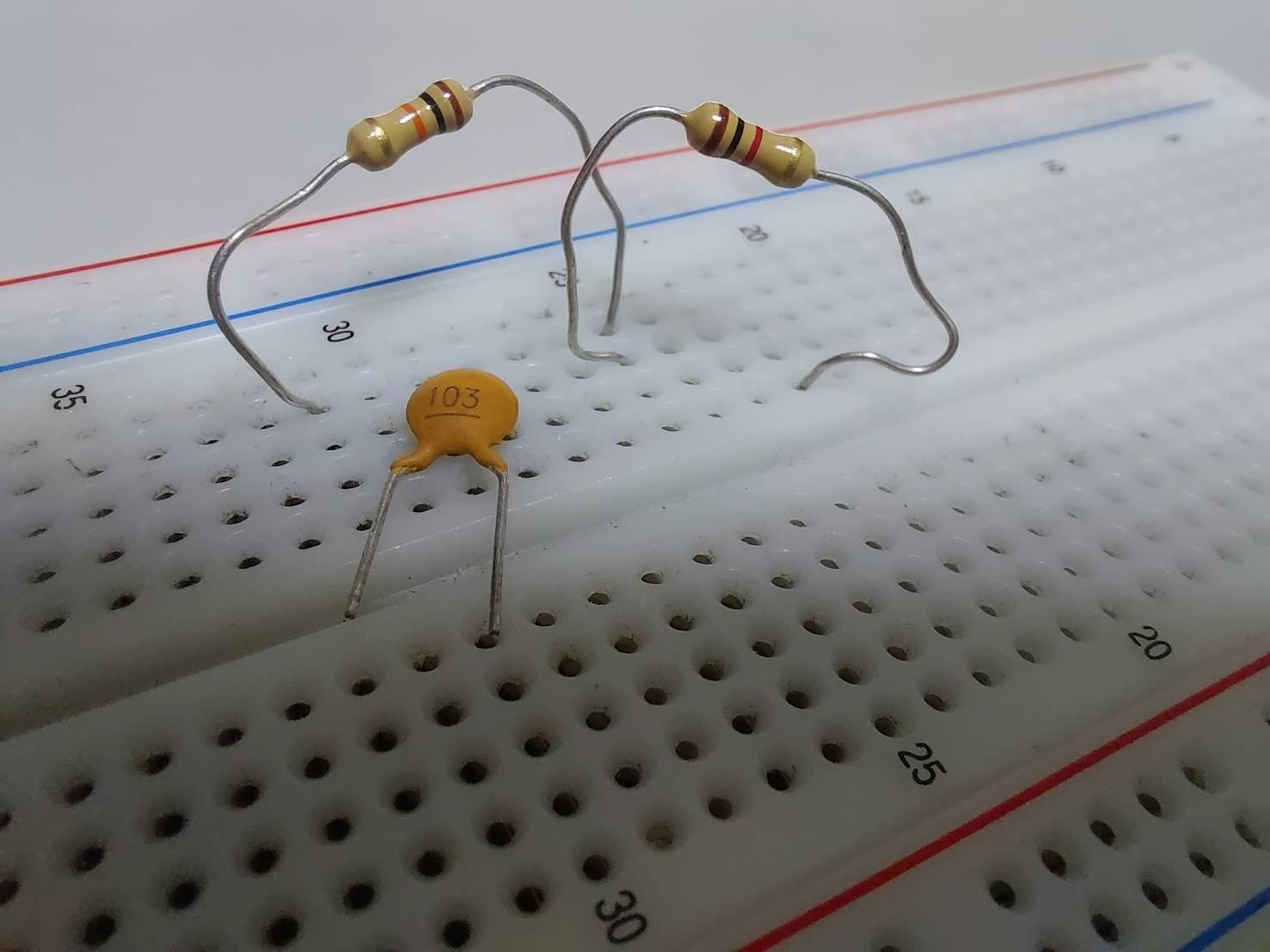resistor: (321, 69, 485, 176), (680, 95, 821, 195)
